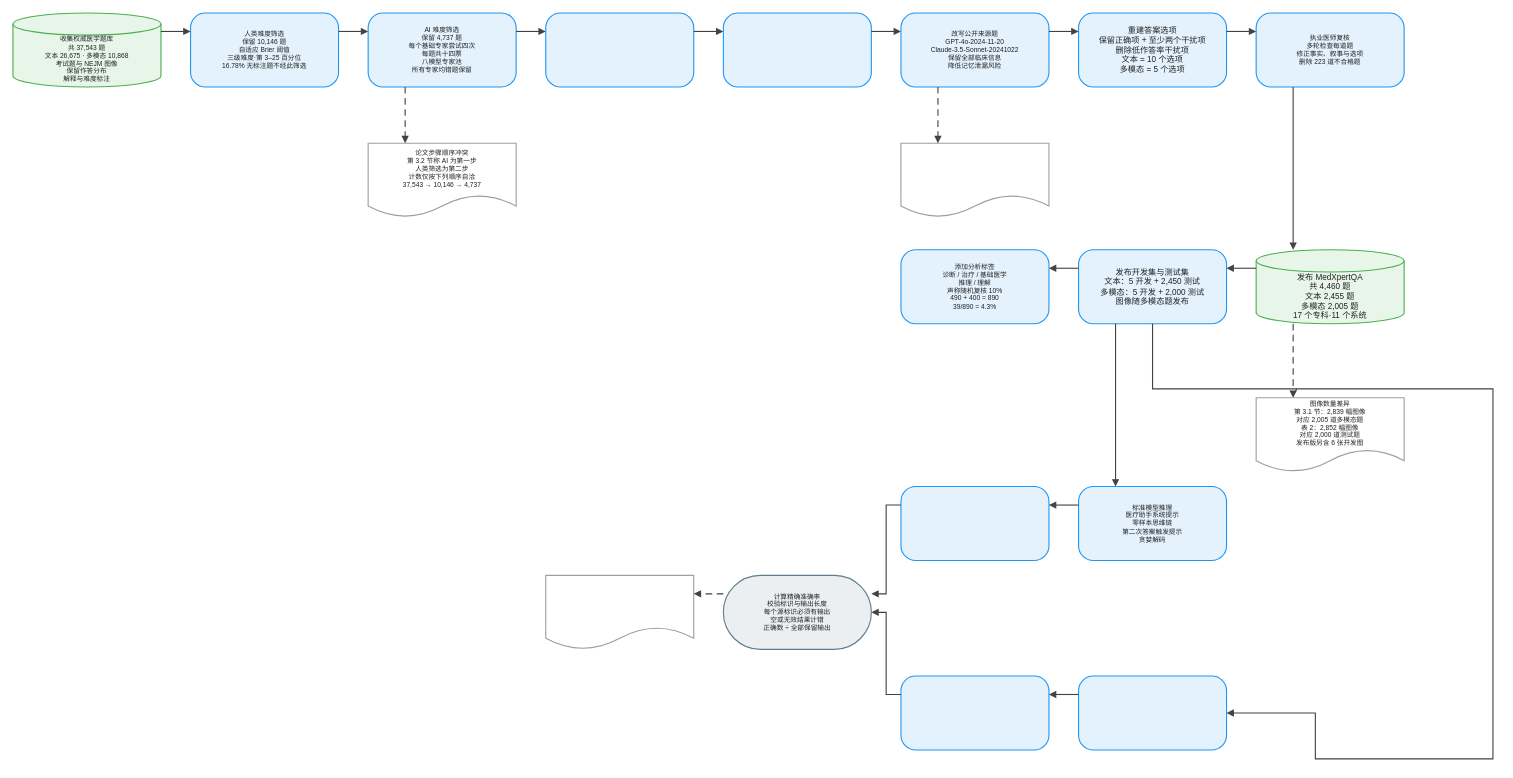
Some shapes in this 1513 by 778 pixel diagram are drawn without their labels. Each missing label, with the box of its shape:
标准模型解析器 先按完整答案触发词切分 失败则尝试 " answer is " 再失败则扫描整段第二轮回复 匹配 A–J 或 A–E 取首个匹配·空结果计错: (900, 486, 1049, 561)
模型数量差异 论文评测 18 个模型 README 称 17 个 报告锁定论文范围: (545, 574, 694, 650)
源码开放边界 构建与增强代码未公开 评测器、数据、图像与排行榜 以 MIT 许可公开: (900, 142, 1049, 217)
特殊模型抽样 o1/o3-mini：每子集与类型 10% 随机种子 42 QVQ 与 DeepSeek 单独路径: (1078, 675, 1227, 750)
特殊模型解析器 QVQ：在 Final Answer 处切分 取首个或最后一个字母 DeepSeek：读取 boxed 答案 要求 A–J 或 A–E: (900, 675, 1049, 750)
编辑距离去重 删除近乎相同题对 题对中保留更难者 4,737 → 4,713: (545, 12, 694, 87)
语义去重 MedCPT 查询编码器 余弦相似度 + IQR 删除题对中较易者 4,713 → 4,683: (722, 12, 872, 87)
